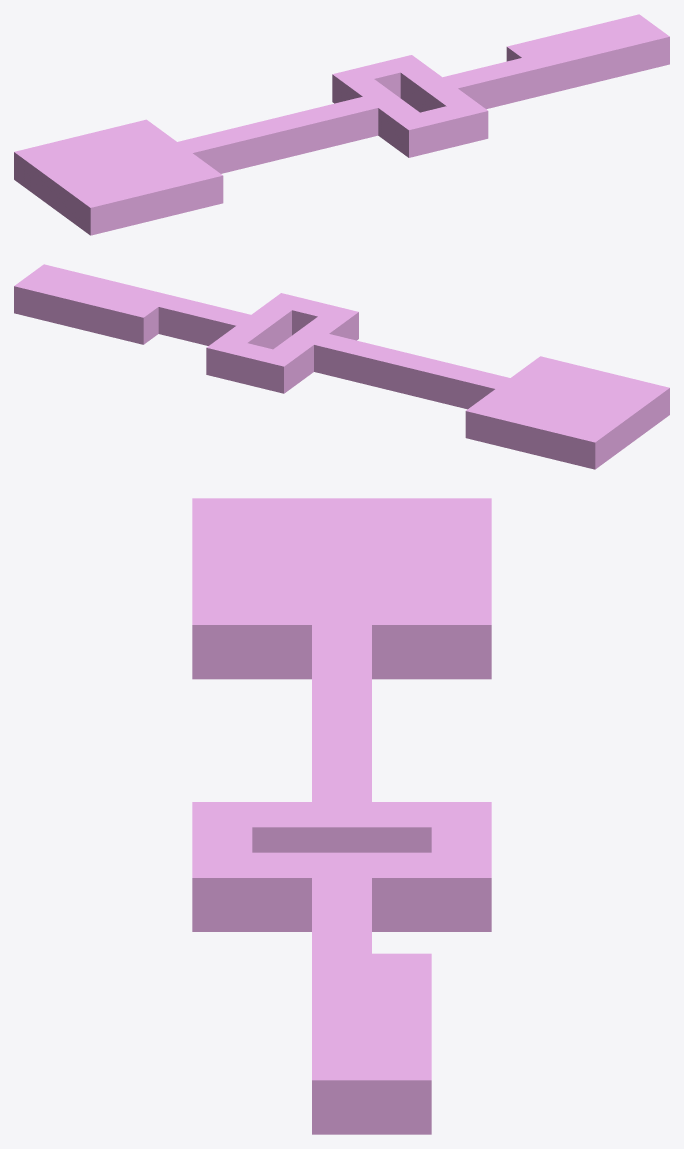
File: floors.dae
3 views of the same model, one above another, from view 1: azimuth 30°, elevation 25°; view 2: azimuth 150°, elevation 25°; view 3: azimuth 270°, elevation 25° (orthographic). The views are drawn at different scales.
Parts seen in each view (by area): view 1: floor; view 2: floor; view 3: floor.
Boxes of the visible parts, box(x1,y1,x2,y2) form: floor: box(14, 14, 669, 235); floor: box(14, 264, 669, 469); floor: box(192, 498, 491, 1134).
Bounding box in the file's own units: 23 × 5 × 1.
